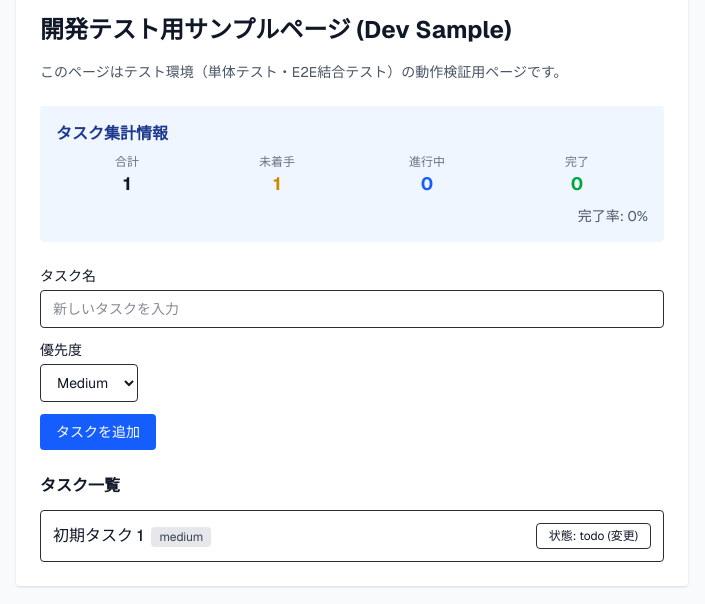
Scenario: DevSamplePage UI コンポーネント仕様 › ステータストグル: 変更ボタンを押すとステータスが遷移し統計が反映されること
Expected: the text with test id "task-status" reads "todo", [579,528,604,544]
What coordinates should you click on to do the following:
click the button with test id "toggle-status-button"
I would click on:
 (593, 536)
Its box is [536,523,651,549].
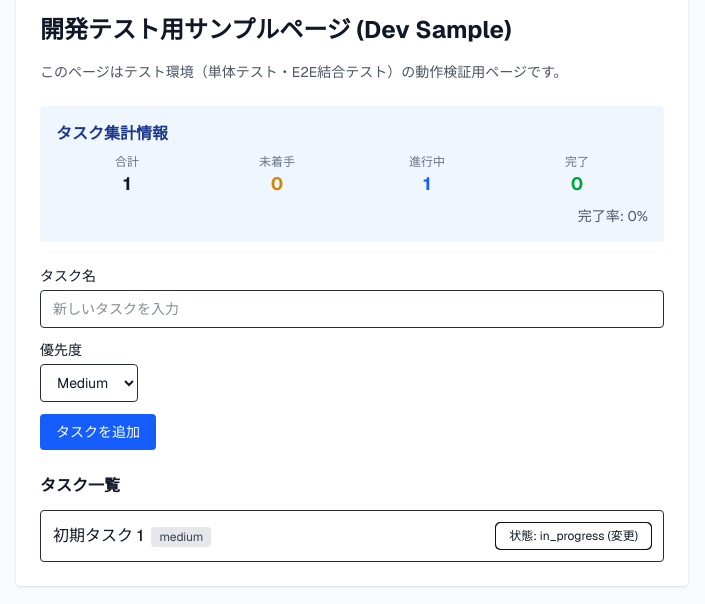
Now the text with test id "task-status" reads "in_progress", box [540,528,604,544]
Now the text with test id "stat-todo" reads "0", box [271,172,283,195]
Now the text with test id "stat-in-progress" reads "1", box [423,172,431,195]
What coordinates should you click on to do the following:
click the button with test id "toggle-status-button"
I would click on:
 (574, 536)
Its box is [496,523,651,549].
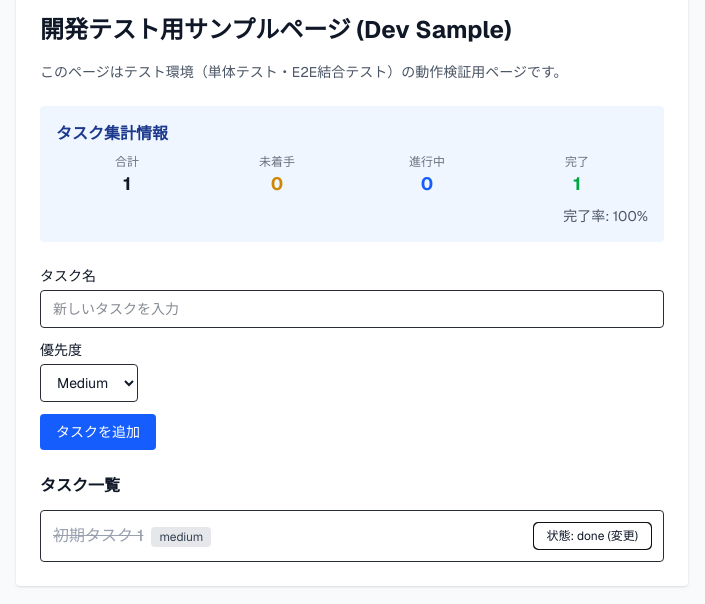
Now the text with test id "task-status" reads "done", box [577,528,604,544]
Now the text with test id "stat-in-progress" reads "0", box [421,172,433,195]
Now the text with test id "stat-done" reads "1", box [573,172,581,195]
